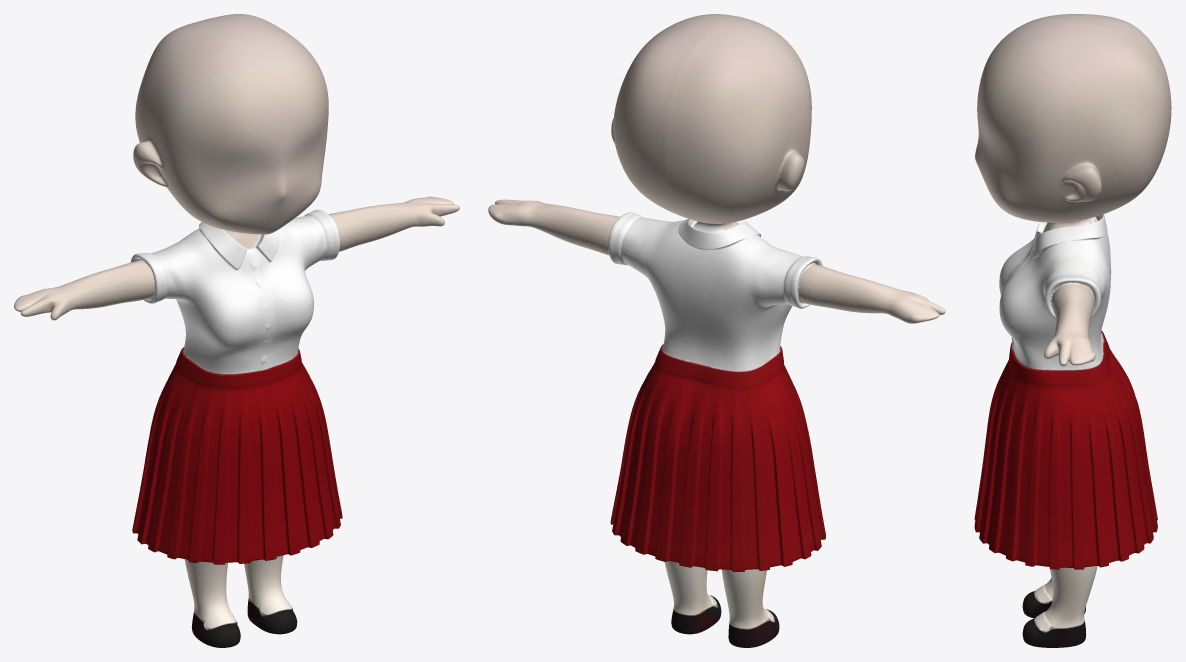
File: baked_outfit_blouse2.glb
The picture shows the model from 3 angles, left to right: view 1: azimuth 30°, elevation 25°; view 2: azimuth 150°, elevation 25°; view 3: azimuth 270°, elevation 25°; orthographic projection. The views are drawn at different scales.
Bounding box in the file's own units: 1.46 × 1.9 × 0.5631.
Materials: 1 (1 with a texture image).
